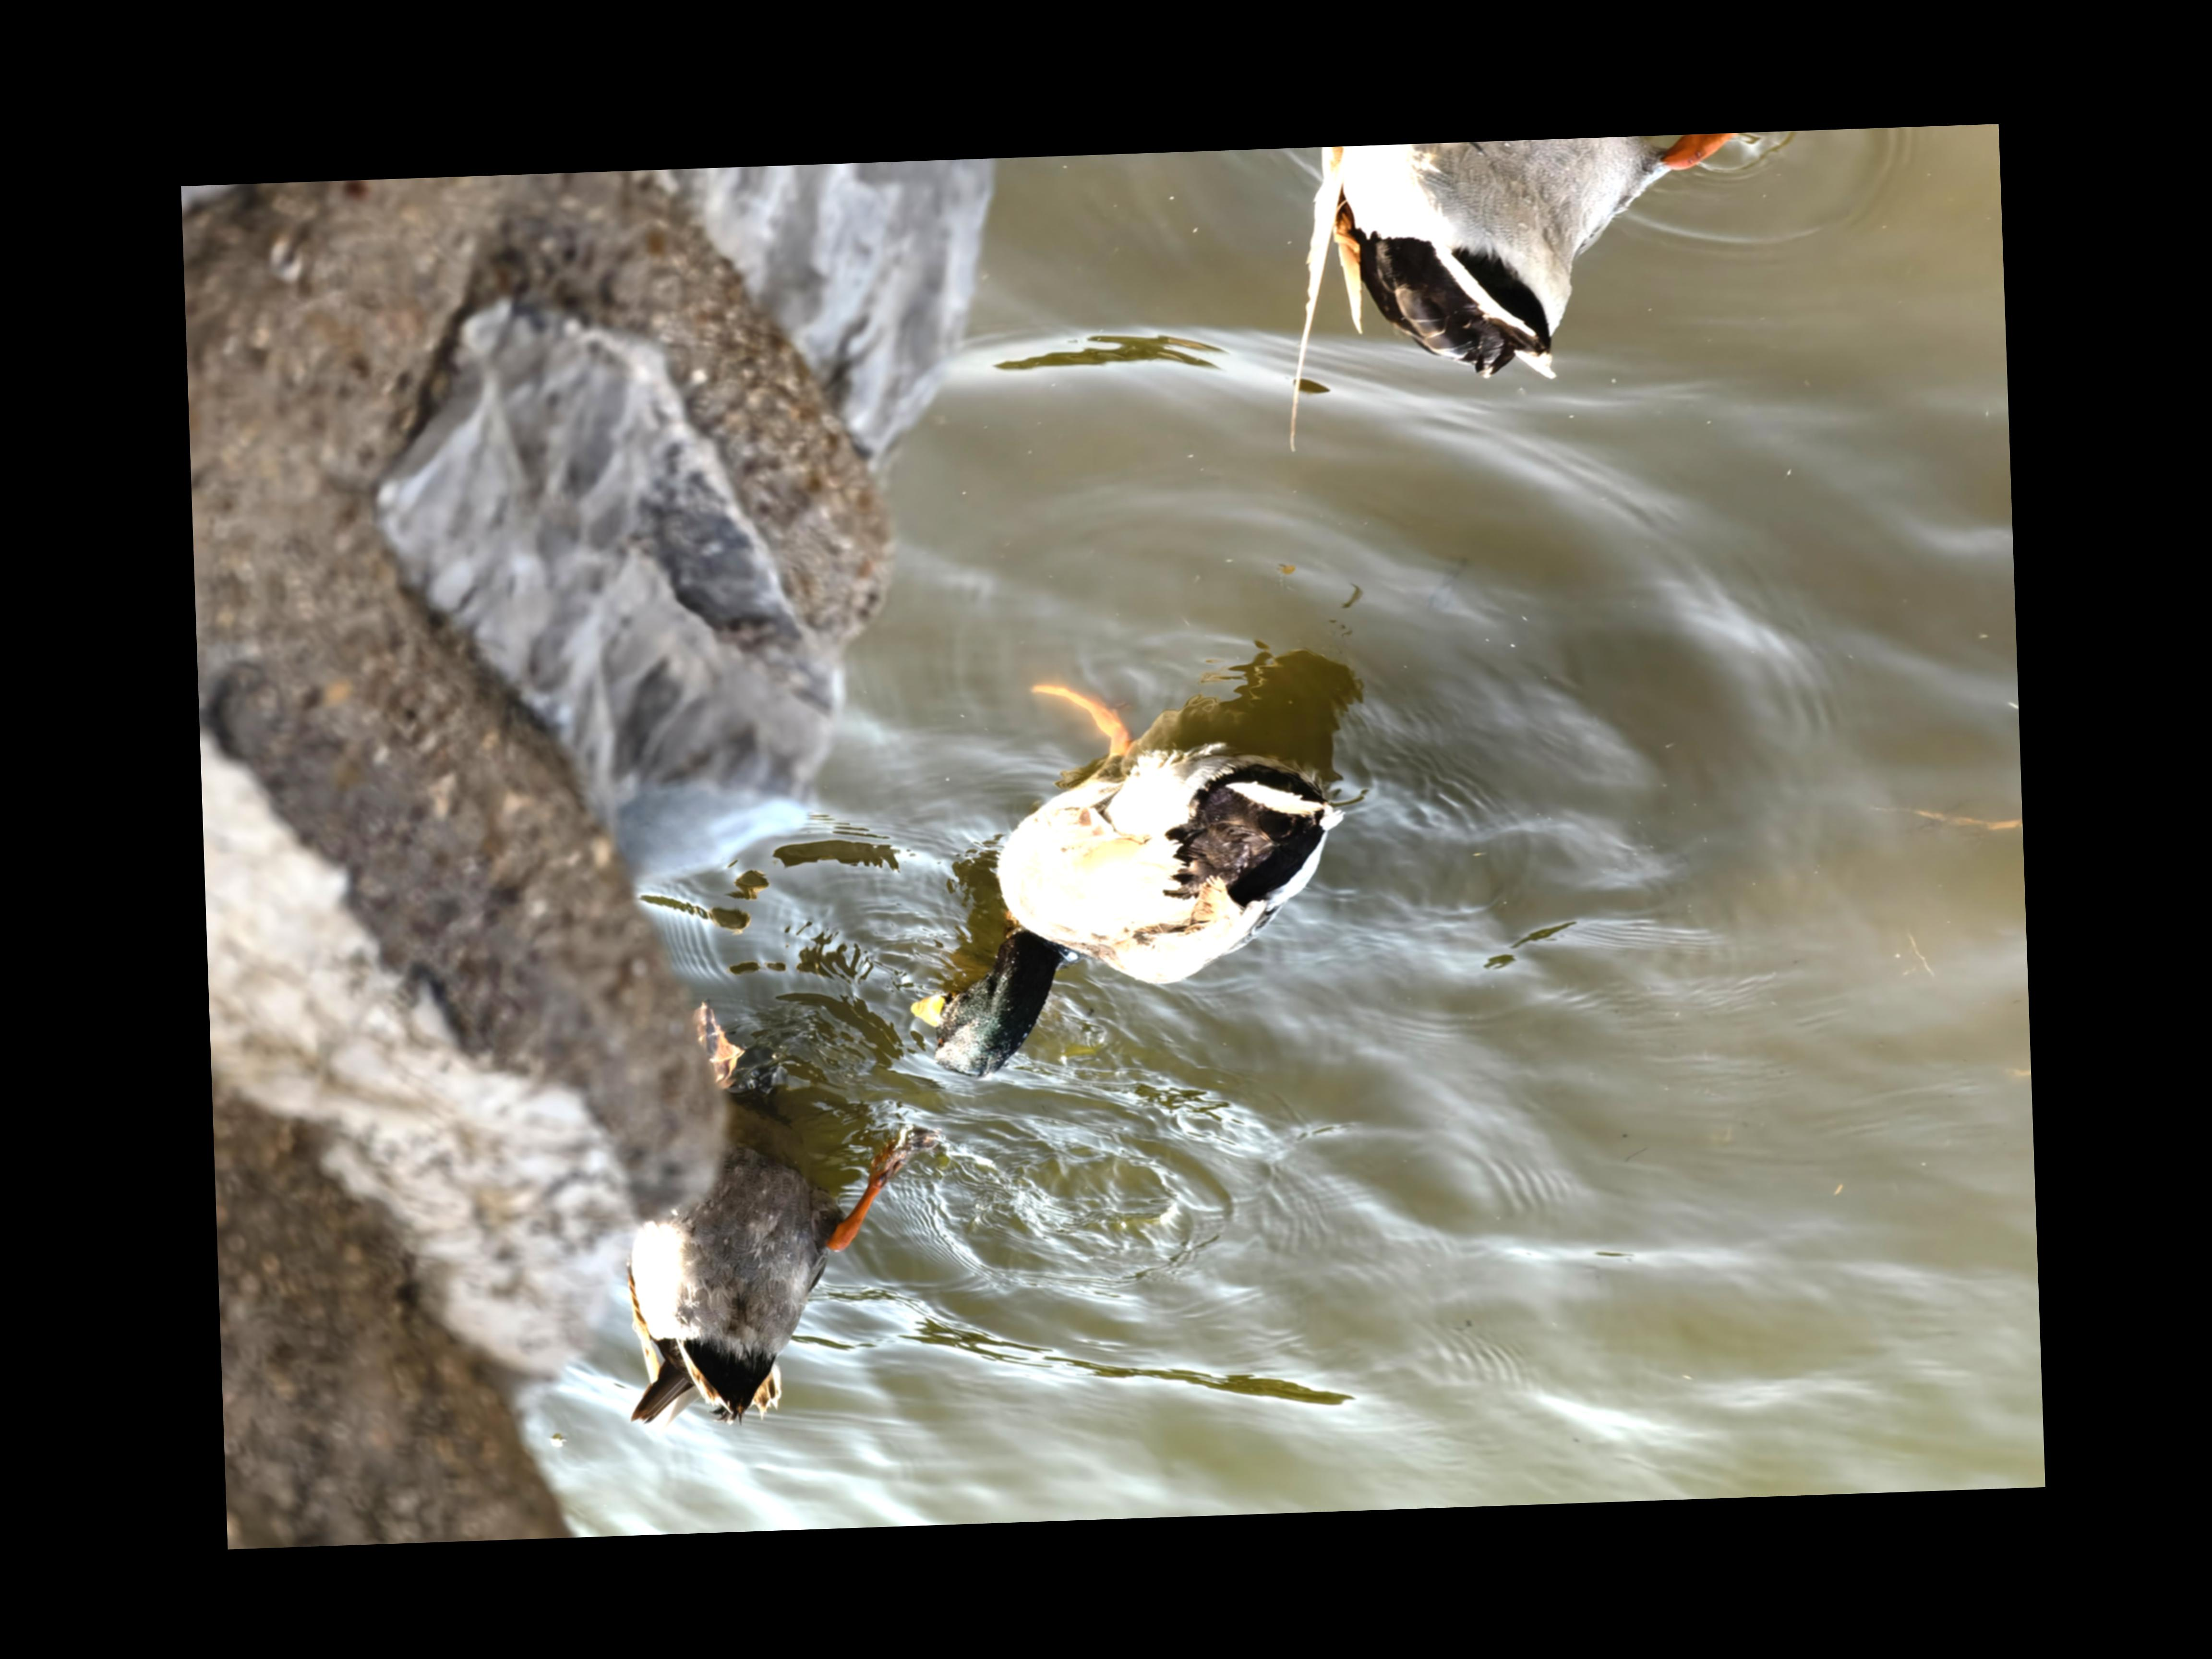duck: (892, 683, 1411, 1082), (1245, 131, 1811, 460), (585, 1030, 953, 1438)
